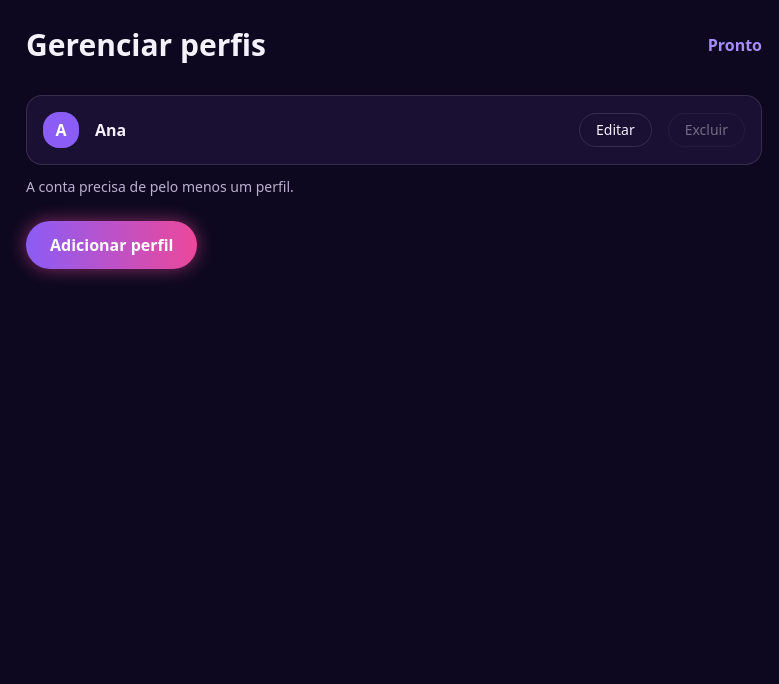
Test: Gerenciar perfis › criar Kids sem PIN pede para criar o PIN antes
Step 1. Click the button "Adicionar perfil" → (112, 245), box [26,221,198,269]
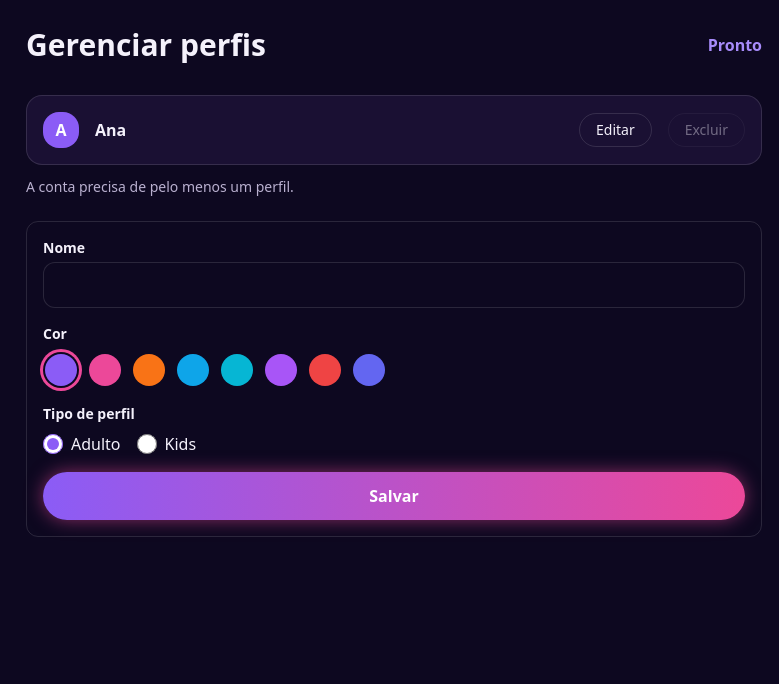
Step 2. Type "Pequeno" into the field labelled "Nome" → (394, 285), box [43,262,745,308]
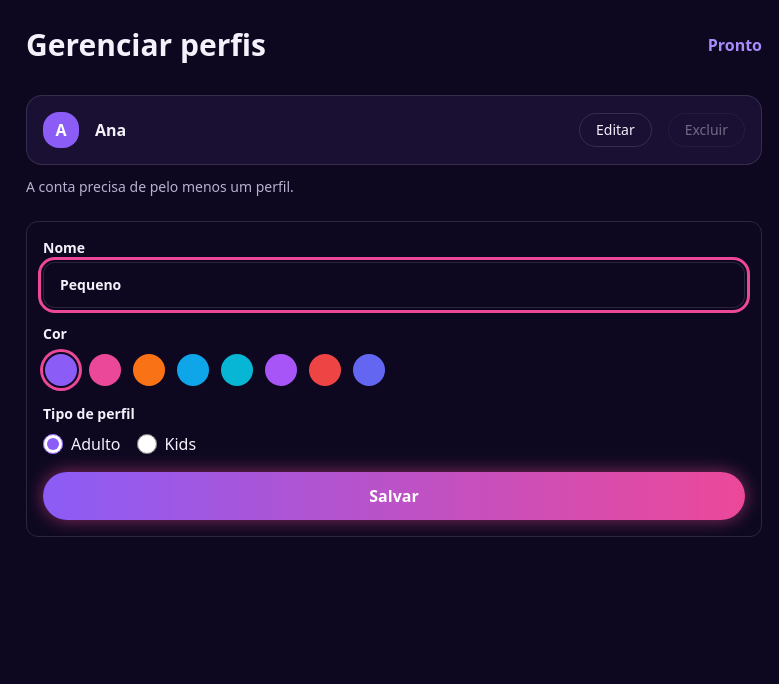
Step 3. Click the radio button labelled "Kids" → (146, 444), box [136,434,156,454]
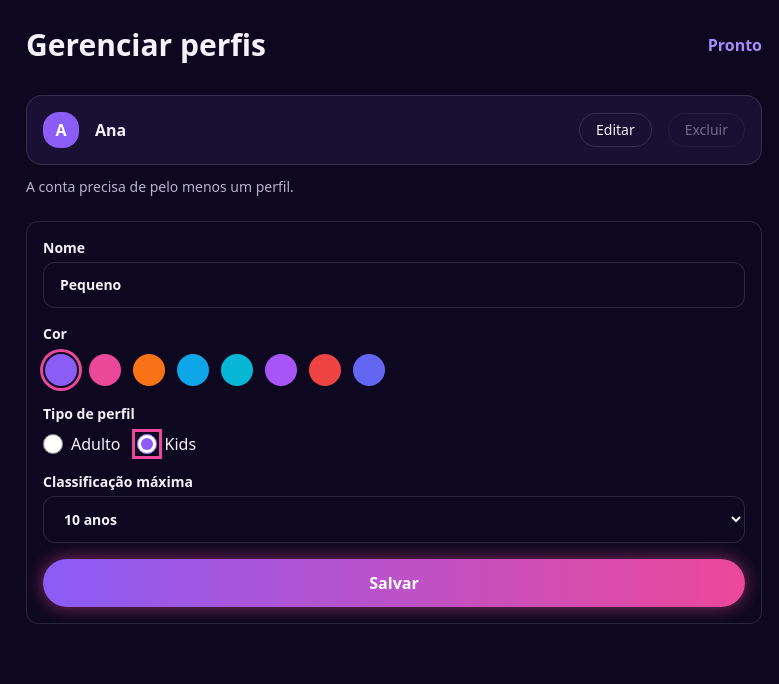
Step 4. Select "10 anos" in the dropdown labelled "Classificação máxima" → (394, 520), box [43,496,745,543]
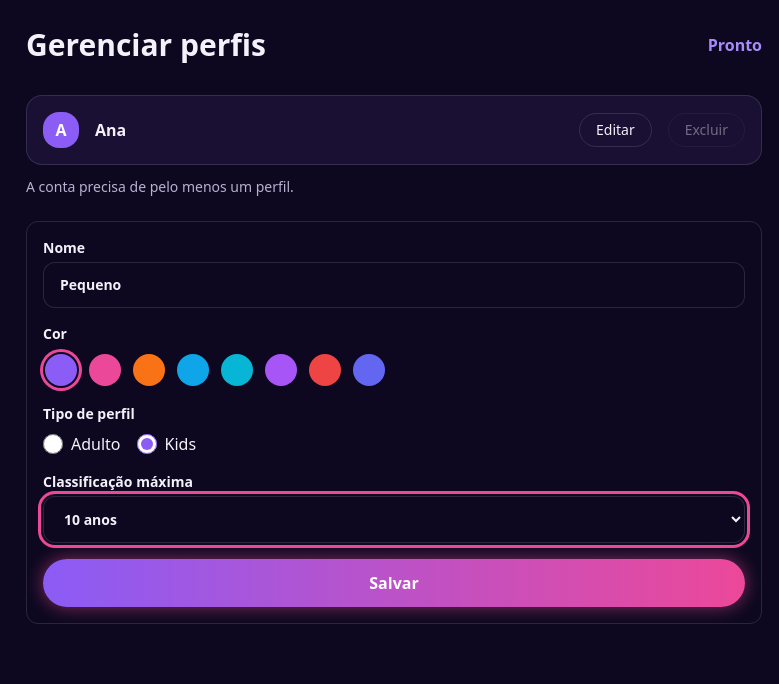
Step 5. Click the button "Salvar" → (394, 583), box [43,559,745,607]
(page scrolled)
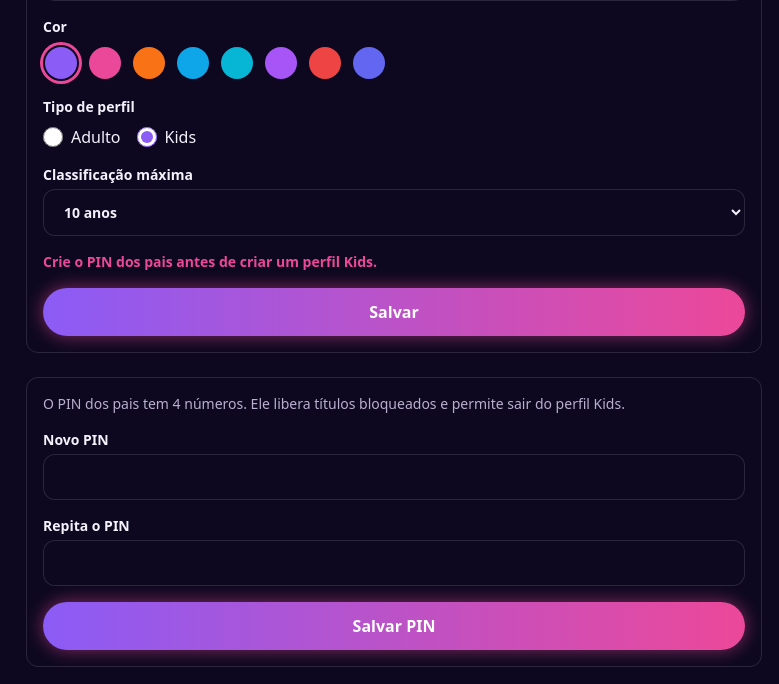
expect the form named "Criar o PIN dos pais" is shown: met, box [26,377,762,667]
